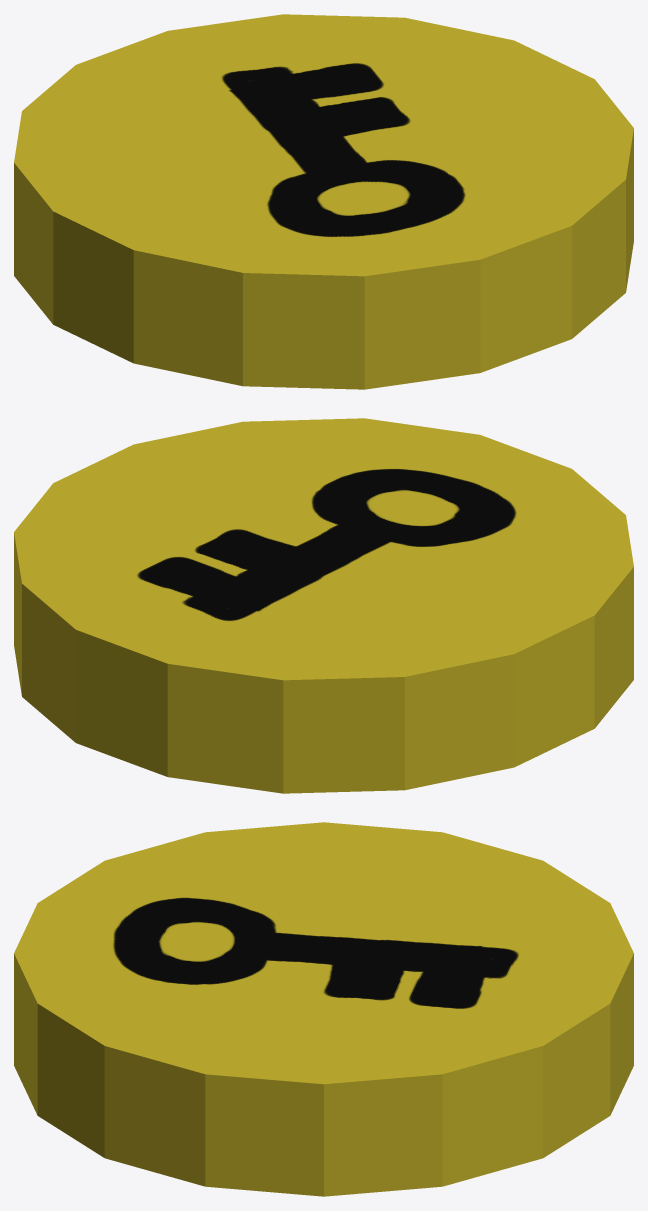
File: key_token.glb
3 renders of one model, top to bottom at view 1: azimuth 30°, elevation 25°; view 2: azimuth 150°, elevation 25°; view 3: azimuth 270°, elevation 25°, orthographic.
Parts seen in each view (by area): view 1: key_token; view 2: key_token; view 3: key_token.
Part boxes in pixels (x1=…): key_token: x1=14, y1=14, x2=633, y2=389; key_token: x1=14, y1=418, x2=633, y2=793; key_token: x1=14, y1=822, x2=633, y2=1196.
Bounding box in the file's own units: 0.5 × 0.1 × 0.5.
1 material, 1 textured.
